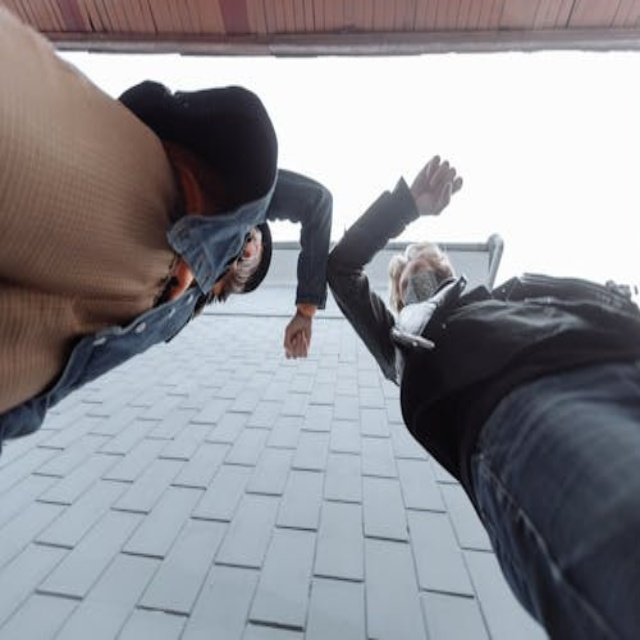Mascara: (227, 230, 264, 297), (404, 267, 443, 306)
Sin_guantes: (409, 154, 462, 218), (283, 309, 313, 358)
